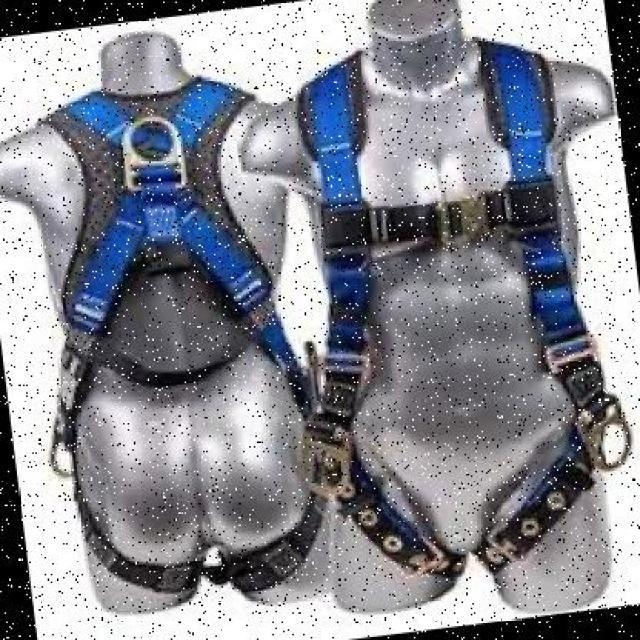Arnes_seguridad: (247, 19, 640, 595), (8, 67, 312, 615)
